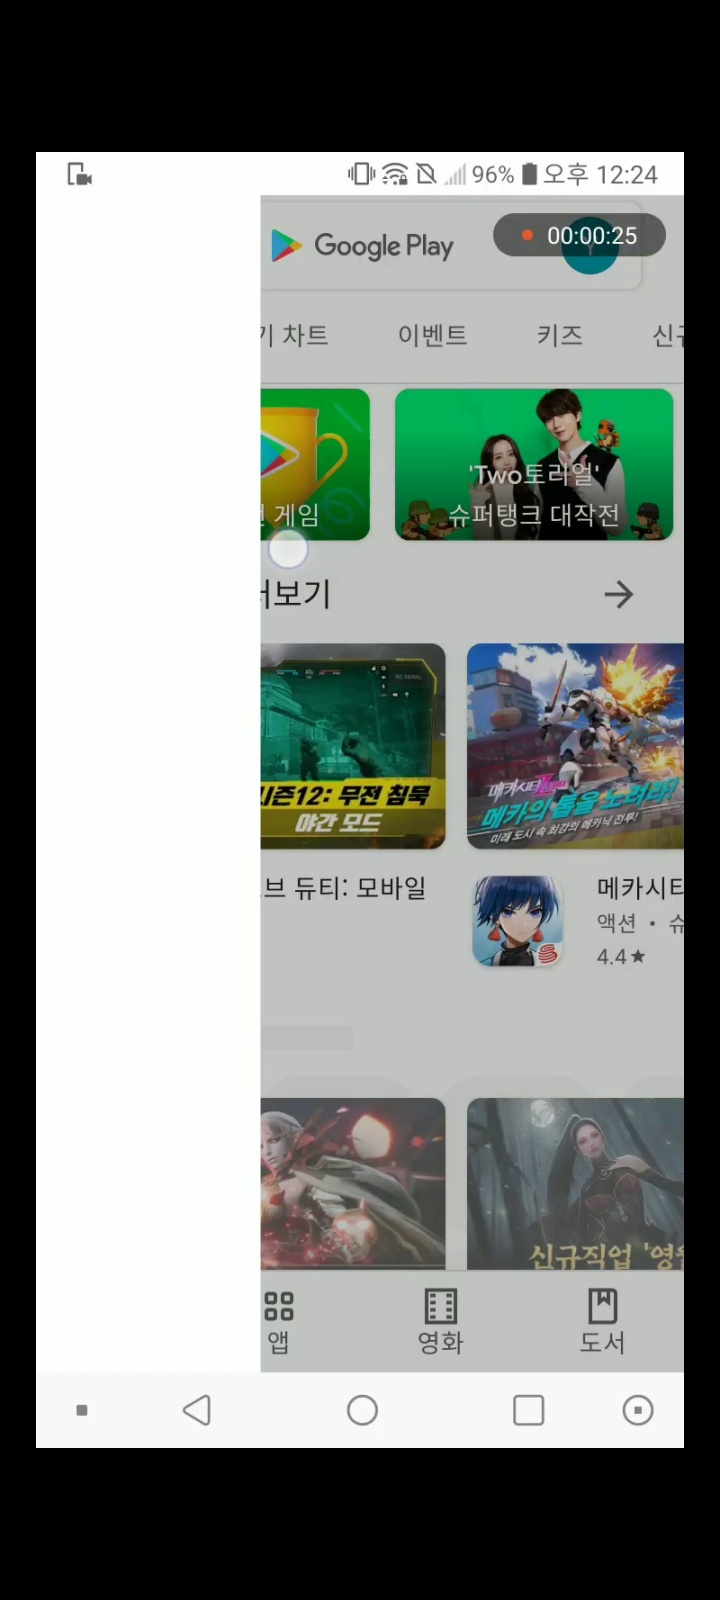Cursor: (266, 526, 311, 571)
